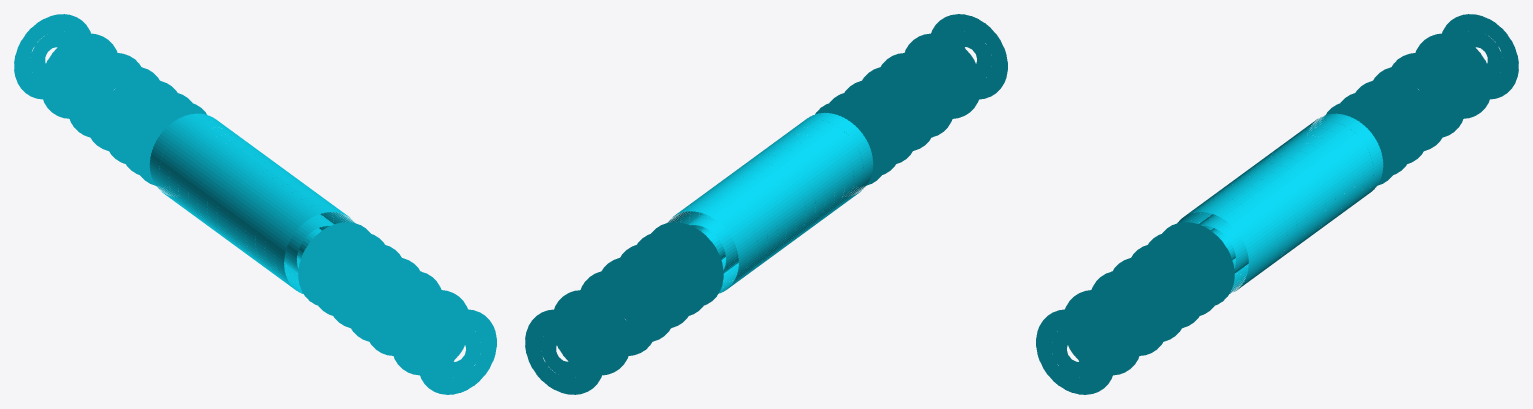
Rendered from pixels.gltf.
3 renders of one model, left to right at view 1: azimuth 30°, elevation 25°; view 2: azimuth 150°, elevation 25°; view 3: azimuth 330°, elevation 25°, orthographic.
Parts seen in each view (by area): view 1: Pixels_Barrel_sensitives_l7, Pixels_PositiveEndcap_sensitives_l13, Pixels_PositiveEndcap_sensitives_l11, Pixels_NegativeEndcap_sensitives_l3, Pixels_PositiveEndcap_sensitives_l9, Pixels_NegativeEndcap_sensitives_l5, Pixels_PositiveEndcap_sensitives_l7, Pixels_NegativeEndcap_sensitives_l9, Pixels_NegativeEndcap_sensitives_l7, Pixels_PositiveEndcap_sensitives_l5, Pixels_NegativeEndcap_sensitives_l15, Pixels_PositiveEndcap_sensitives_l3 (+4 smaller); view 2: Pixels_Barrel_sensitives_l7, Pixels_NegativeEndcap_sensitives_l3, Pixels_NegativeEndcap_sensitives_l5, Pixels_NegativeEndcap_sensitives_l7, Pixels_PositiveEndcap_sensitives_l13, Pixels_PositiveEndcap_sensitives_l11, Pixels_NegativeEndcap_sensitives_l9, Pixels_PositiveEndcap_sensitives_l7, Pixels_NegativeEndcap_sensitives_l11, Pixels_PositiveEndcap_sensitives_l9, Pixels_NegativeEndcap_sensitives_l13, Pixels_PositiveEndcap_sensitives_l5 (+4 smaller); view 3: Pixels_Barrel_sensitives_l7, Pixels_PositiveEndcap_sensitives_l13, Pixels_PositiveEndcap_sensitives_l11, Pixels_NegativeEndcap_sensitives_l3, Pixels_PositiveEndcap_sensitives_l9, Pixels_NegativeEndcap_sensitives_l5, Pixels_PositiveEndcap_sensitives_l7, Pixels_NegativeEndcap_sensitives_l9, Pixels_NegativeEndcap_sensitives_l7, Pixels_PositiveEndcap_sensitives_l5, Pixels_NegativeEndcap_sensitives_l15, Pixels_PositiveEndcap_sensitives_l3 (+4 smaller).
Boxes of the visible parts, bbox=[...] form: Pixels_Barrel_sensitives_l7: bbox=[149, 113, 354, 293]; Pixels_PositiveEndcap_sensitives_l13: bbox=[417, 309, 496, 394]; Pixels_PositiveEndcap_sensitives_l11: bbox=[391, 290, 467, 375]; Pixels_NegativeEndcap_sensitives_l3: bbox=[14, 14, 90, 99]; Pixels_PositiveEndcap_sensitives_l9: bbox=[364, 270, 441, 355]; Pixels_NegativeEndcap_sensitives_l5: bbox=[40, 33, 117, 118]; Pixels_PositiveEndcap_sensitives_l7: bbox=[346, 257, 419, 341]; Pixels_NegativeEndcap_sensitives_l9: bbox=[85, 66, 159, 150]; Pixels_NegativeEndcap_sensitives_l7: bbox=[67, 53, 140, 137]; Pixels_PositiveEndcap_sensitives_l5: bbox=[327, 243, 401, 327]; Pixels_NegativeEndcap_sensitives_l15: bbox=[133, 101, 206, 186]; Pixels_PositiveEndcap_sensitives_l3: bbox=[311, 232, 384, 315]; Pixels_Barrel_sensitives_l7: bbox=[667, 112, 873, 293]; Pixels_NegativeEndcap_sensitives_l3: bbox=[525, 309, 604, 394]; Pixels_NegativeEndcap_sensitives_l5: bbox=[554, 290, 630, 375]; Pixels_NegativeEndcap_sensitives_l7: bbox=[580, 270, 657, 355]; Pixels_PositiveEndcap_sensitives_l13: bbox=[931, 14, 1007, 99]; Pixels_PositiveEndcap_sensitives_l11: bbox=[904, 33, 981, 118]; Pixels_NegativeEndcap_sensitives_l9: bbox=[602, 257, 675, 341]; Pixels_PositiveEndcap_sensitives_l7: bbox=[862, 66, 936, 150]; Pixels_NegativeEndcap_sensitives_l11: bbox=[620, 243, 694, 328]; Pixels_PositiveEndcap_sensitives_l9: bbox=[880, 52, 954, 137]; Pixels_NegativeEndcap_sensitives_l13: bbox=[637, 231, 710, 315]; Pixels_PositiveEndcap_sensitives_l5: bbox=[844, 80, 917, 163]; Pixels_Barrel_sensitives_l7: bbox=[1177, 113, 1383, 293]; Pixels_PositiveEndcap_sensitives_l13: bbox=[1036, 309, 1115, 394]; Pixels_PositiveEndcap_sensitives_l11: bbox=[1065, 290, 1141, 375]; Pixels_NegativeEndcap_sensitives_l3: bbox=[1442, 14, 1518, 99]; Pixels_PositiveEndcap_sensitives_l9: bbox=[1091, 270, 1168, 355]; Pixels_NegativeEndcap_sensitives_l5: bbox=[1415, 33, 1492, 118]; Pixels_PositiveEndcap_sensitives_l7: bbox=[1113, 257, 1186, 341]; Pixels_NegativeEndcap_sensitives_l9: bbox=[1373, 66, 1447, 150]; Pixels_NegativeEndcap_sensitives_l7: bbox=[1392, 53, 1465, 137]; Pixels_PositiveEndcap_sensitives_l5: bbox=[1131, 243, 1205, 327]; Pixels_NegativeEndcap_sensitives_l15: bbox=[1324, 101, 1399, 186]; Pixels_PositiveEndcap_sensitives_l3: bbox=[1148, 232, 1221, 315].
Size of the model in its own units: 0.3465 by 0.3465 by 3.05.
